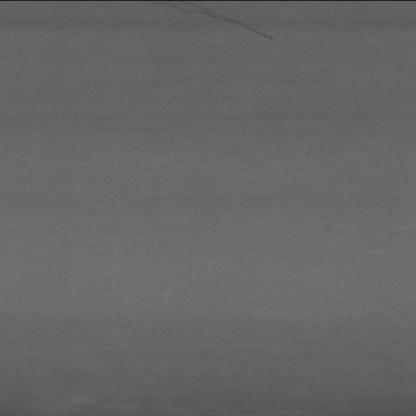water_spot: (171, 1, 287, 43)
